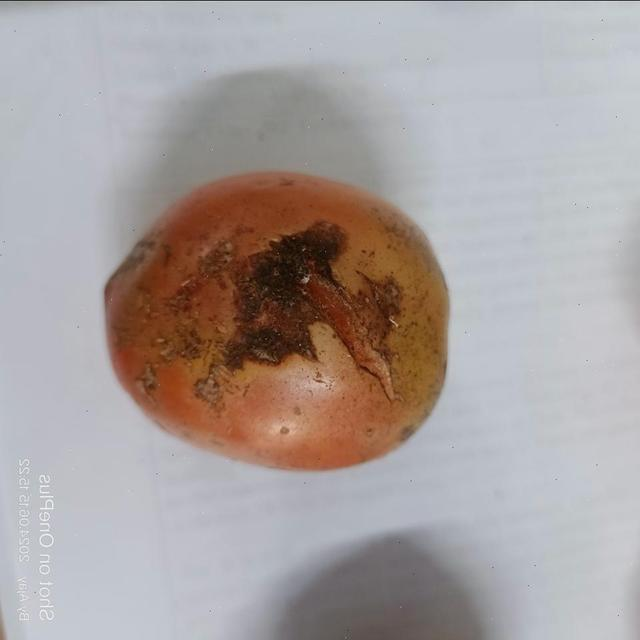Cracking Fruit: (127, 140, 385, 389)
